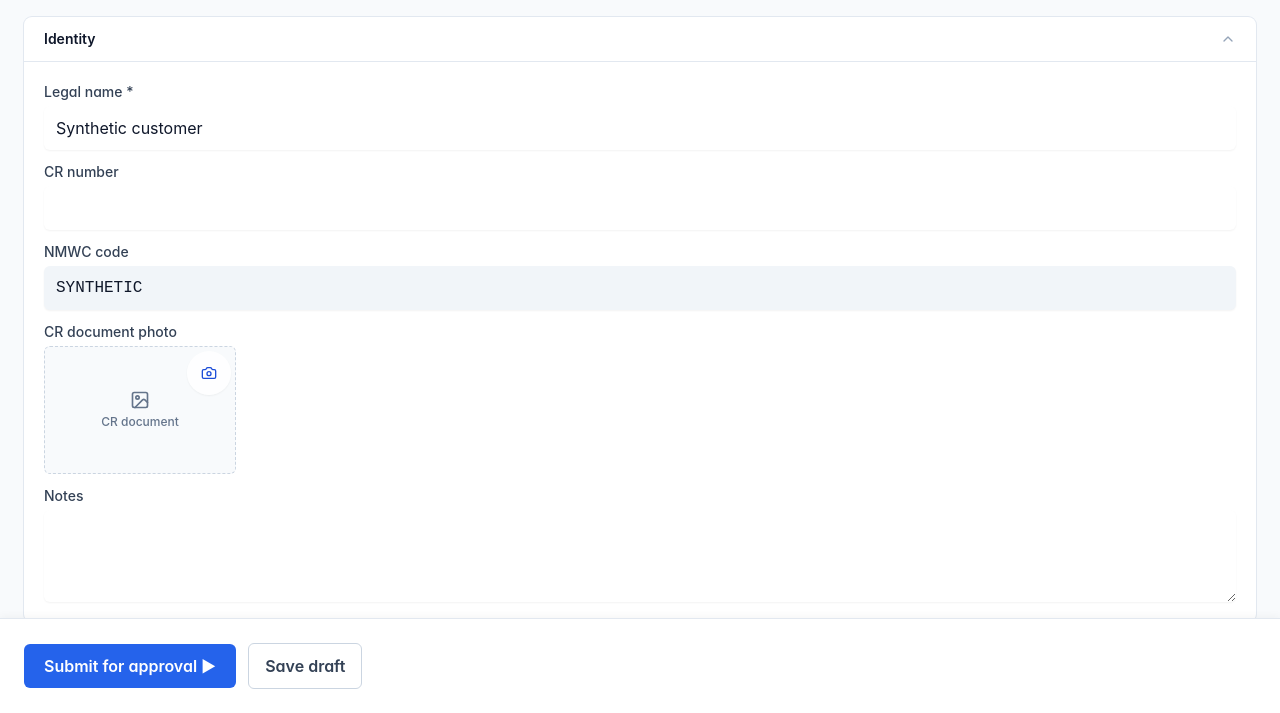
Test: OCT-02: the submitted snapshot stays fixed until its outcome › asks for recapture after a GPS fix during draft
The image size is (1280, 713).
Type "Snapshot" into the text box labelled "Notes". click: x=640, y=556
box: x1=44 y1=510 x2=1236 y2=602
(page scrolled)
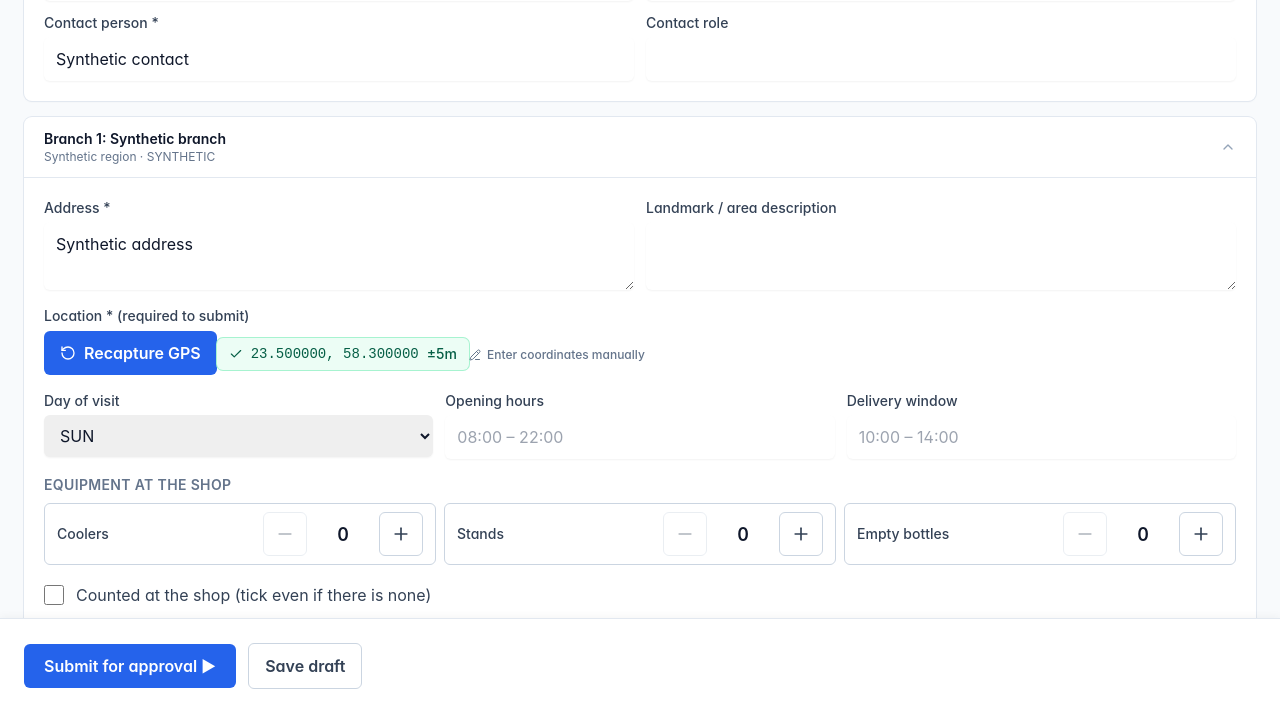
Click the button "Recapture GPS". click: x=130, y=353
box: x1=44 y1=331 x2=217 y2=375
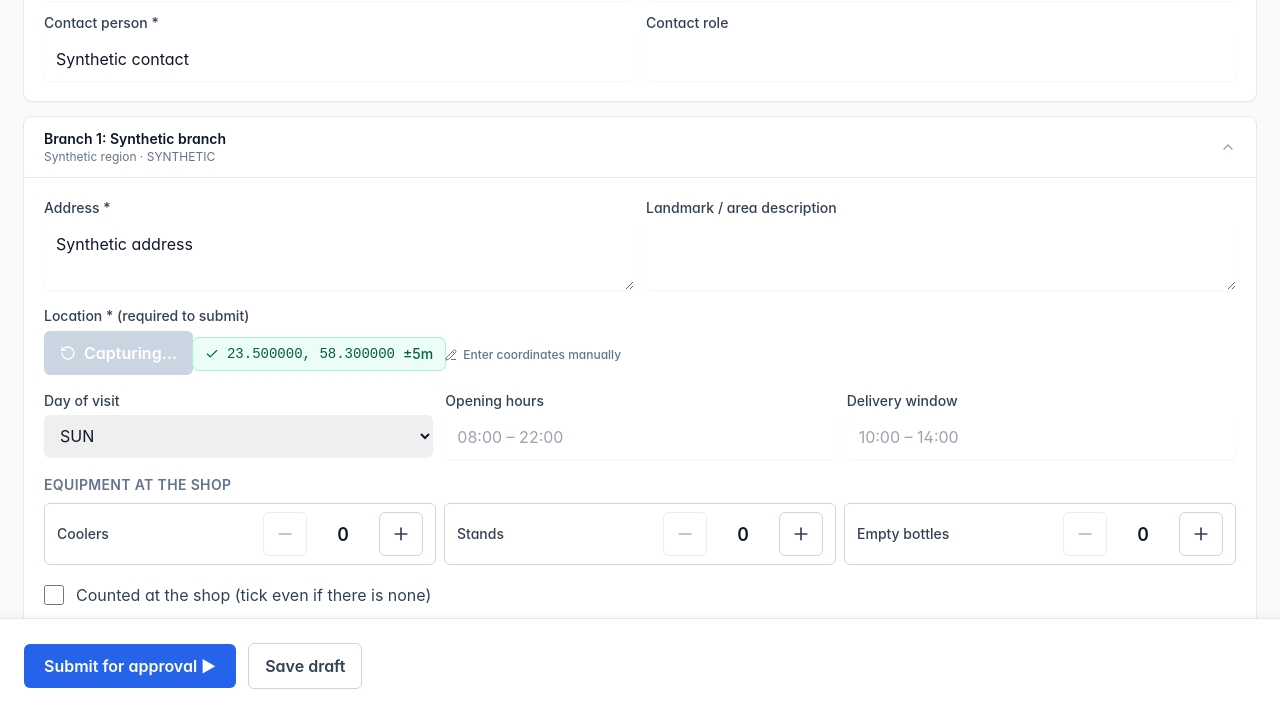
Click the button "Save draft". click: x=305, y=666
box: x1=248 y1=643 x2=362 y2=689
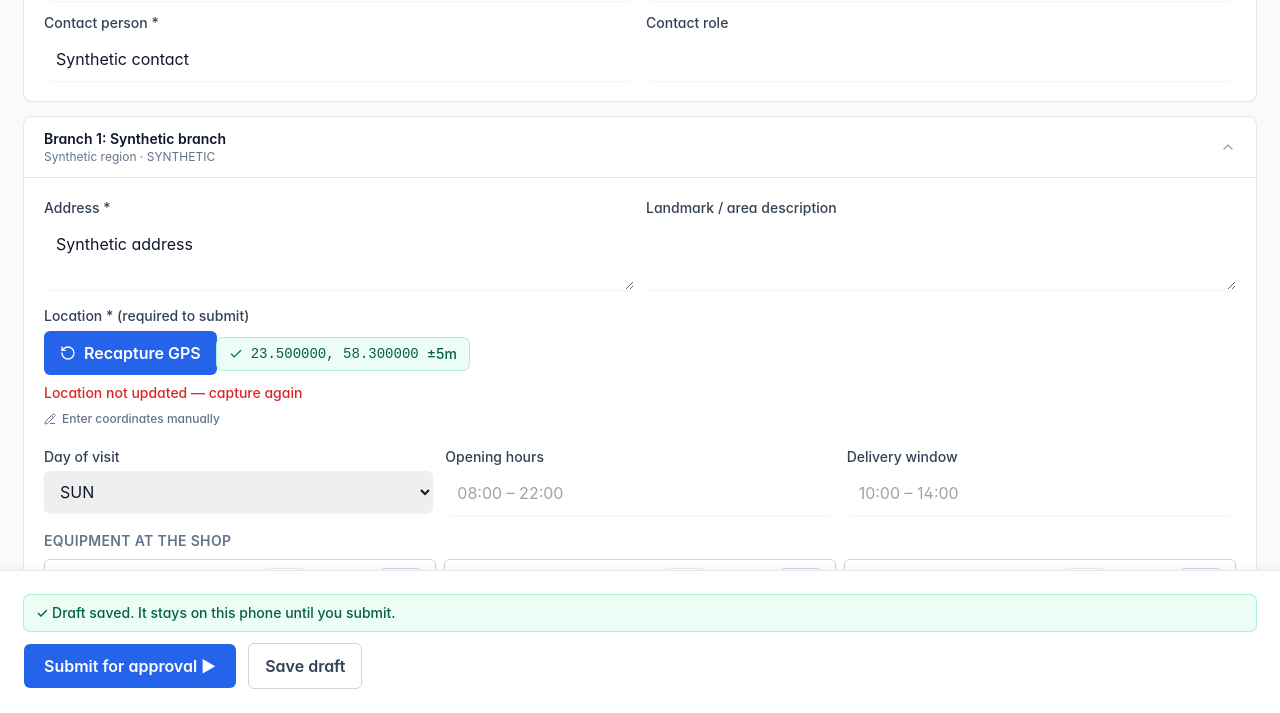
Check: the text "23.500000, 58.300000" is shown, box x1=251 y1=344 x2=419 y2=364
Check: the text "Location not updated — capture again" is shown, box x1=44 y1=384 x2=302 y2=401
Click the button "Recapture GPS". click: x=130, y=353
box: x1=44 y1=331 x2=217 y2=375
Wait 500 ms
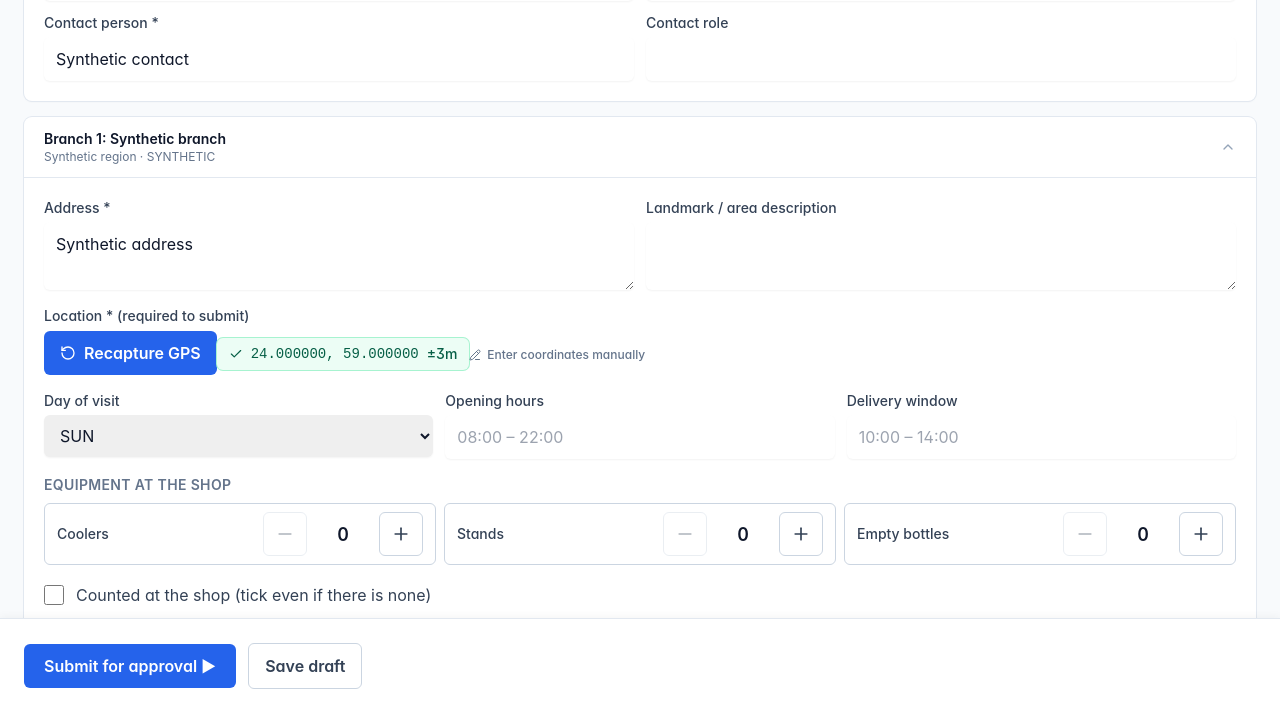
Check: the text "24.000000, 59.000000" is shown, box x1=251 y1=344 x2=419 y2=364
Check: the text "Location not updated — capture again" is gone
